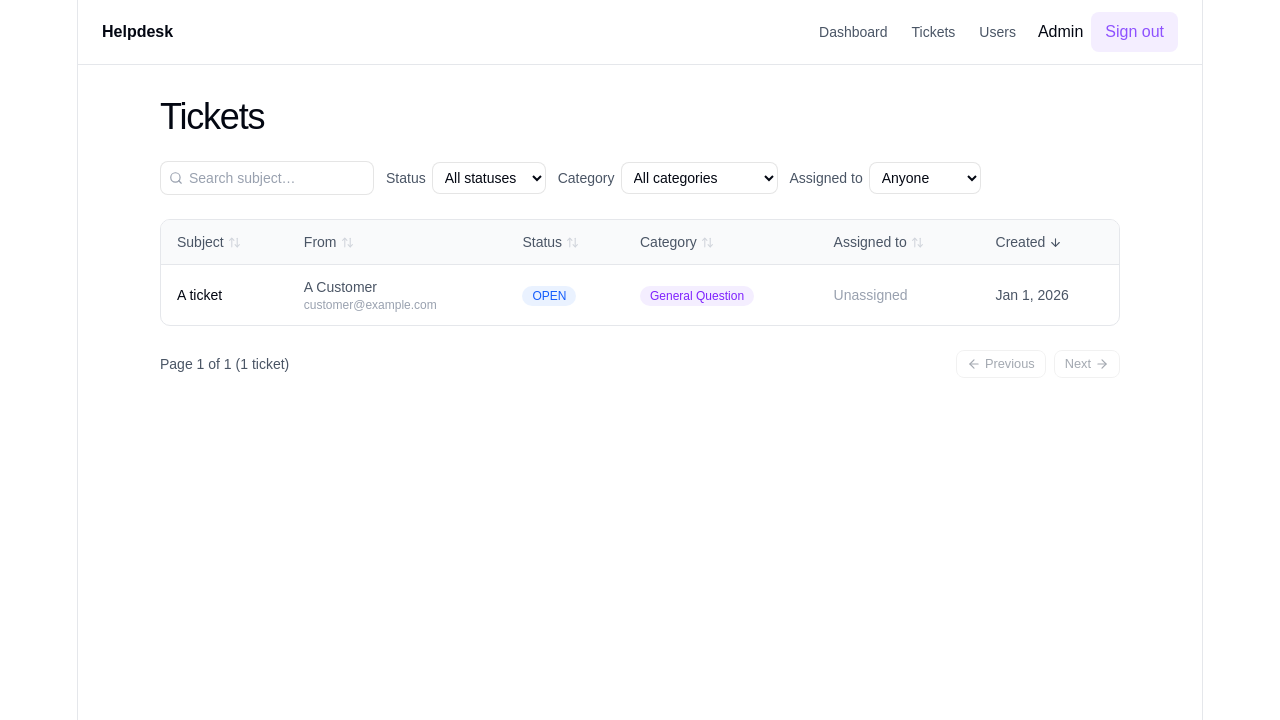
Test: TicketsPage › clears all filters when "Clear filters" is clicked
The width and height of the screenshot is (1280, 720).
Expected: the link "A ticket" is shown, [177,287,222,303]
Select "Technical Question" in the dropdown labelled "Category" at (699, 178), box [620,162,778,194]
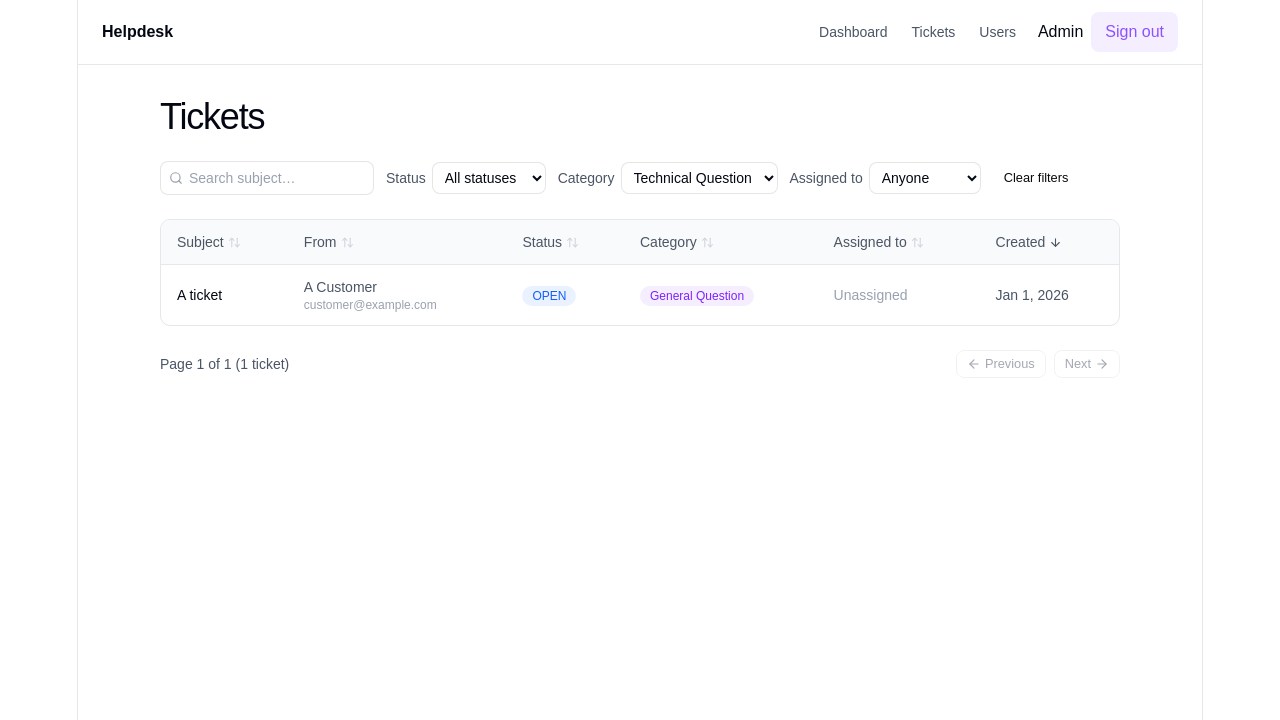
Type "refund" into the field named "Search by subject" at (277, 178), box [189,168,365,188]
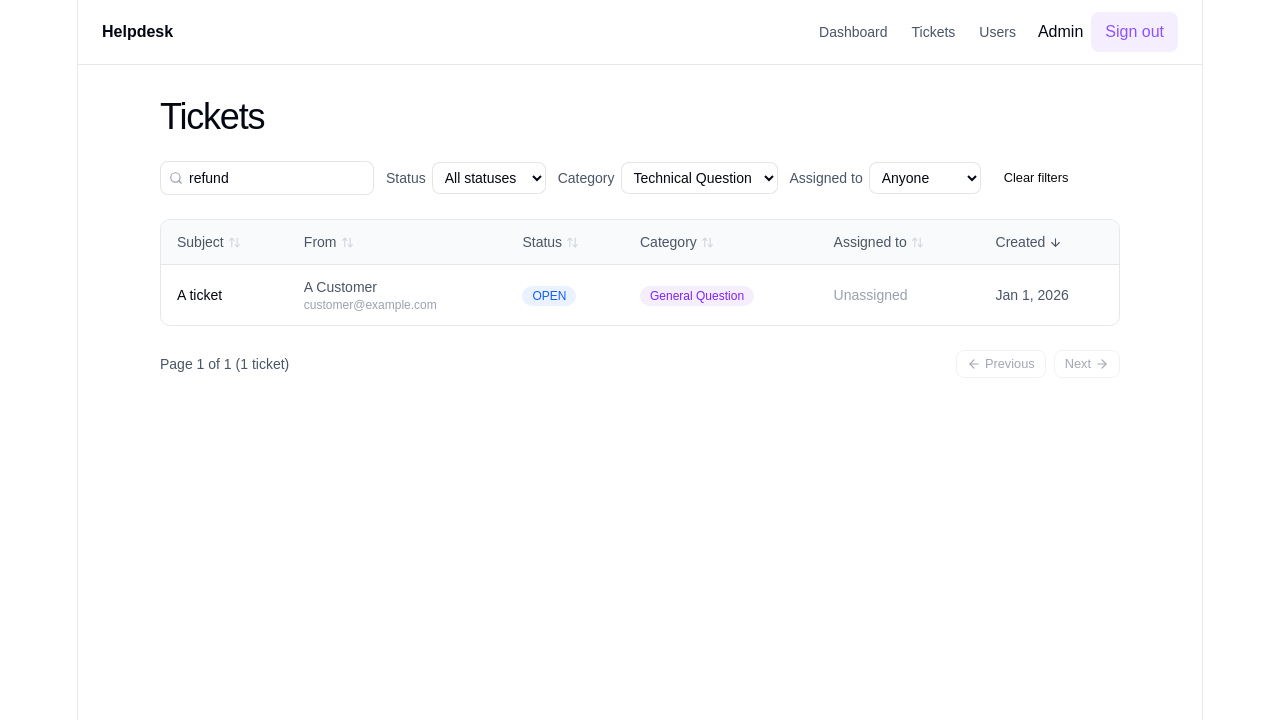
Click the button "Clear filters" at (1036, 178), box [993,164,1079,192]
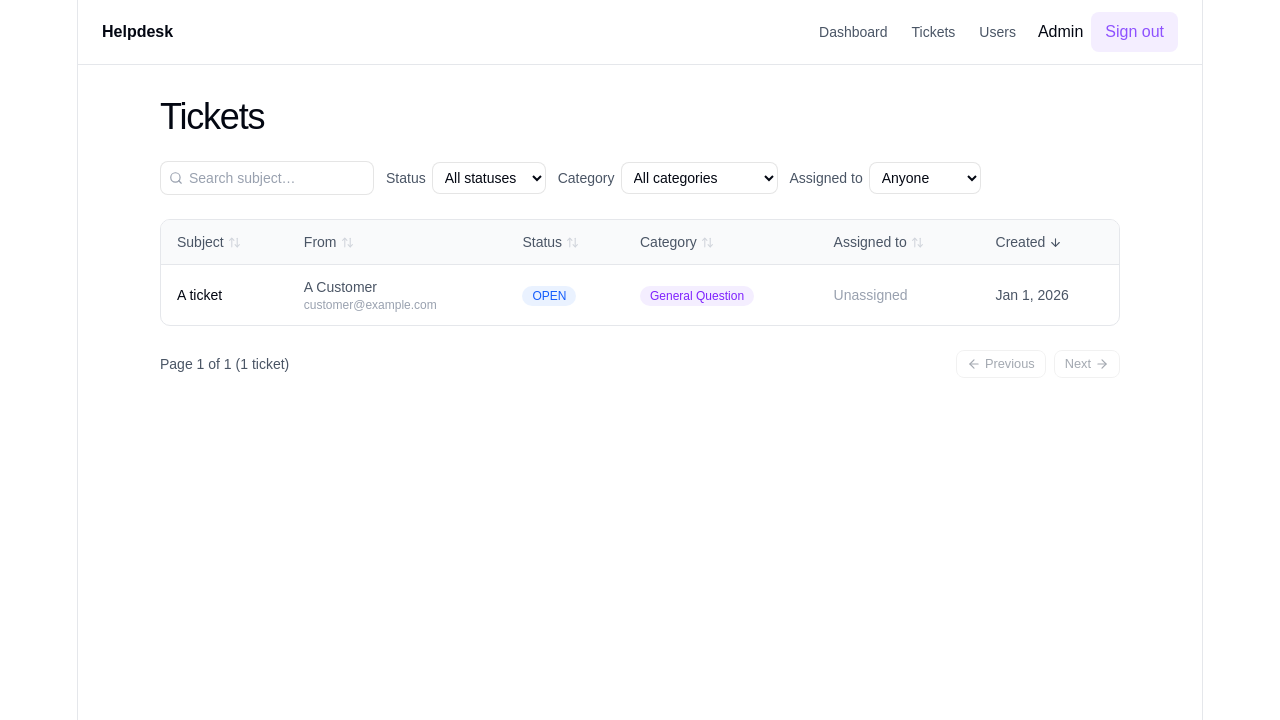
Now the button "Clear filters" is gone
Now the field named "Search by subject" is empty, box [189,168,365,188]
